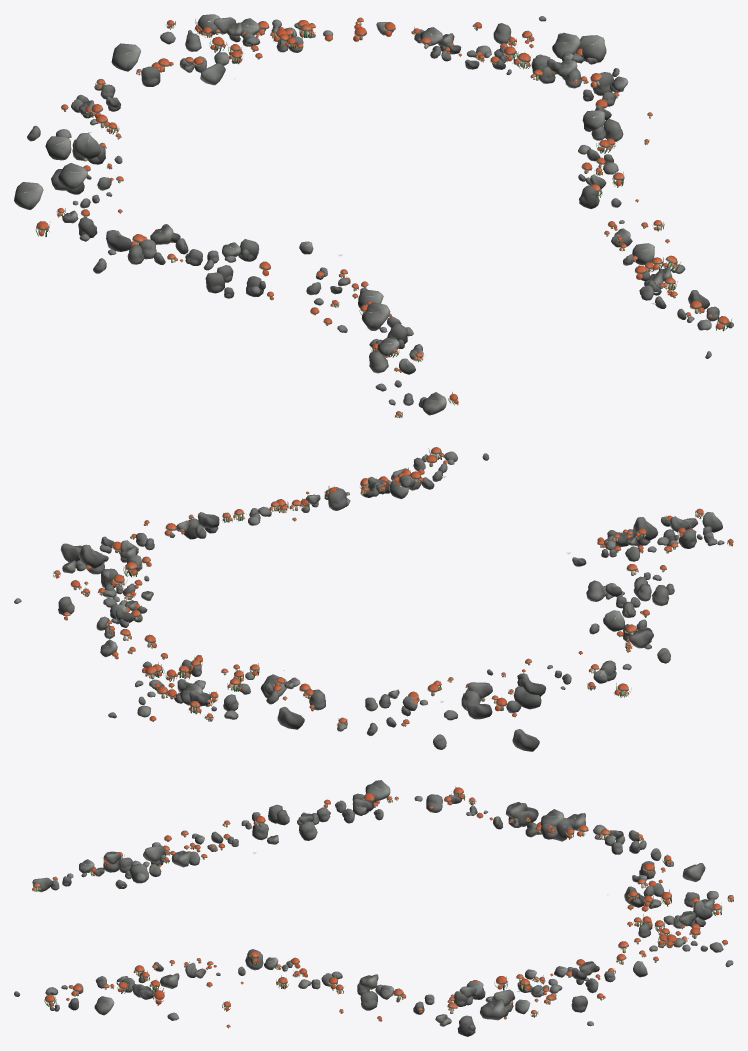
Rendered from rocksmushrooms.glb.
3 views of the same model, one above another, from view 1: azimuth 30°, elevation 25°; view 2: azimuth 150°, elevation 25°; view 3: azimuth 270°, elevation 25° (orthographic). The views are drawn at different scales.
Parts seen in each view (by area): view 1: no part large enough to name; view 2: no part large enough to name; view 3: rock.003 - copy.008.
Boxes of the visible parts, x1=… form: rock.003 - copy.008: x1=480, y1=999, x2=505, y2=1020.
Size of the model in its own units: 26.85 by 3.68 by 33.1.
Materials: 1 (1 with a texture image).
